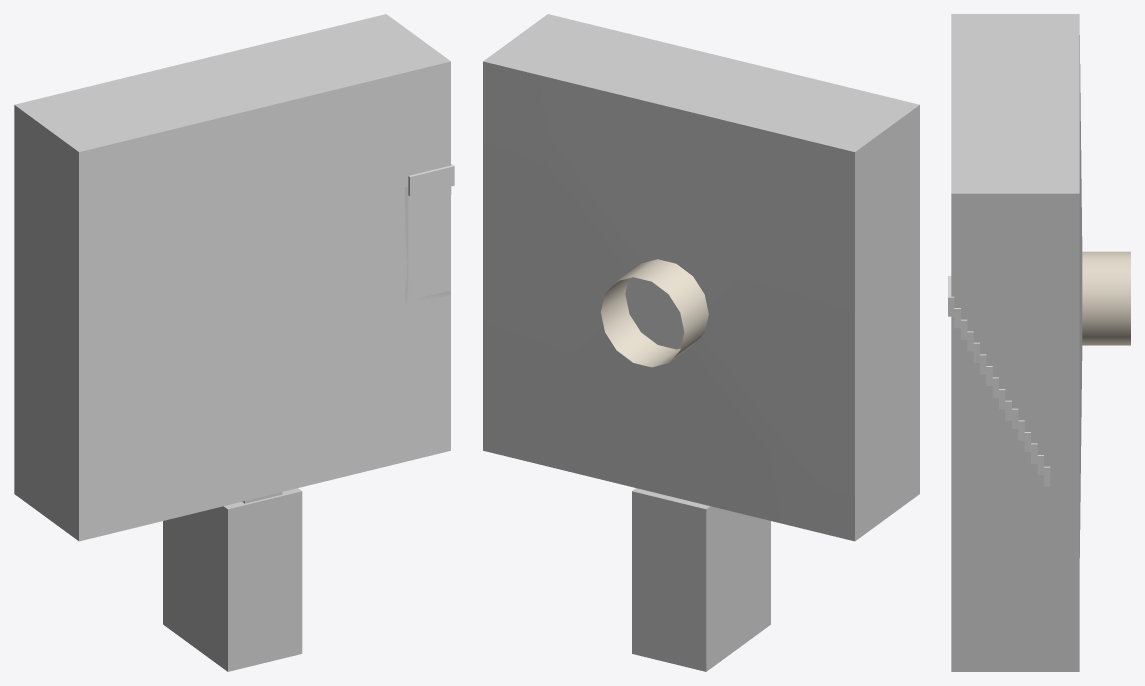
Rendered from Basement_Einstein.fbx.
The picture shows the model from 3 angles, left to right: view 1: azimuth 30°, elevation 25°; view 2: azimuth 150°, elevation 25°; view 3: azimuth 270°, elevation 25°; orthographic projection.
Visible parts, largest first — view 1: Techo sotano; view 2: Techo sotano; view 3: Techo sotano.
Part boxes in pixels (bbox=[...]): Techo sotano: bbox=[14, 14, 454, 671]; Techo sotano: bbox=[483, 14, 919, 671]; Techo sotano: bbox=[948, 14, 1130, 671].
Bounding box in the file's own units: 2010 × 2857 × 860.
